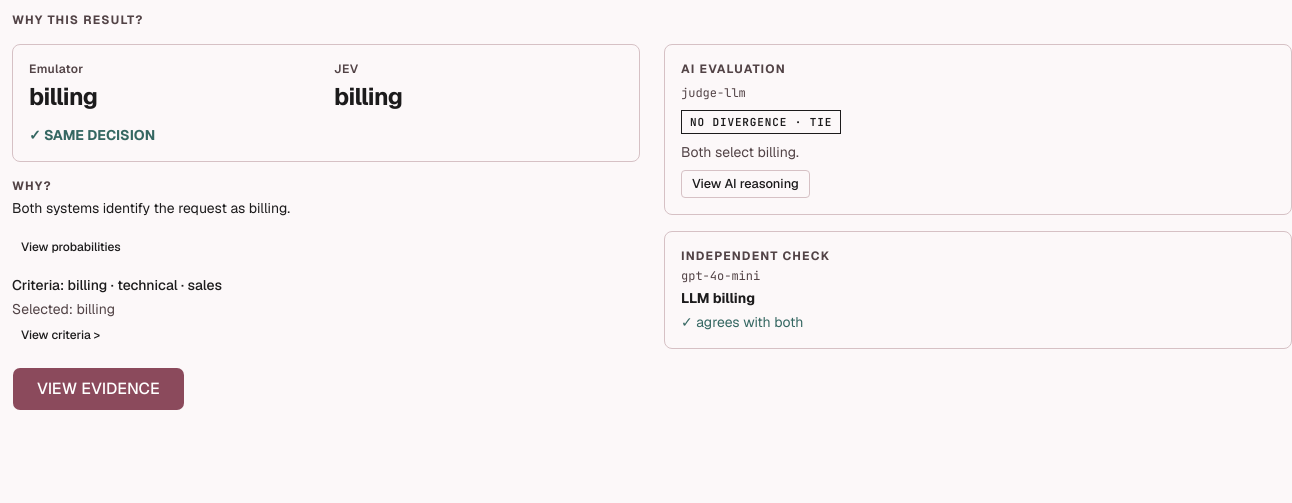
Test case: WhyView — rubric / criteria disclosure (§40) › opens the full criteria detail on demand (desktop disclosure) and closes it again
Expected: the text "billing — Billing issue" is not shown
Click the button with test id "criteria-detail-desktop": (61, 335) x1=12 y1=323 x2=109 y2=347
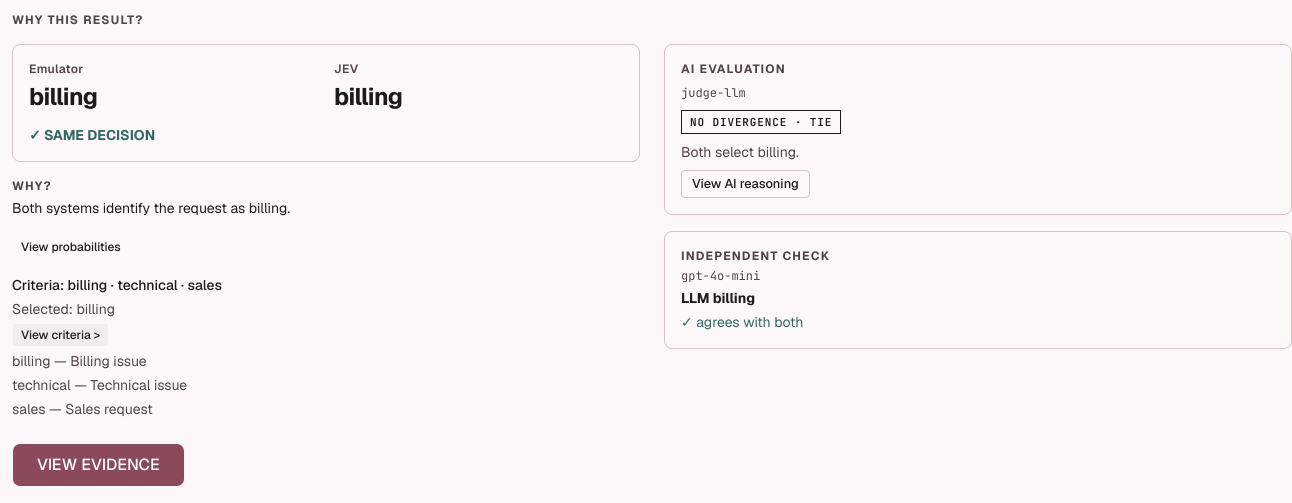
Now the list item "billing — Billing issue" is shown, box x1=12 y1=352 x2=147 y2=370
Now the list item "technical — Technical issue" is shown, box x1=12 y1=376 x2=187 y2=394
Now the list item "sales — Sales request" is shown, box x1=12 y1=400 x2=153 y2=418
Click the button with test id "criteria-detail-desktop": (61, 335) x1=12 y1=323 x2=109 y2=347
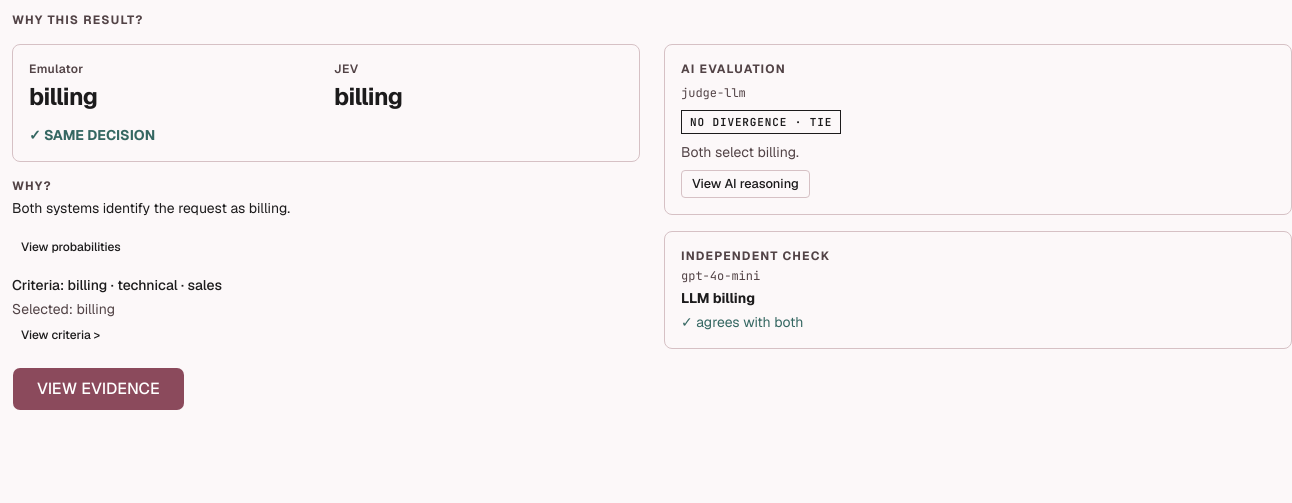
Now the list item "billing — Billing issue" is gone
